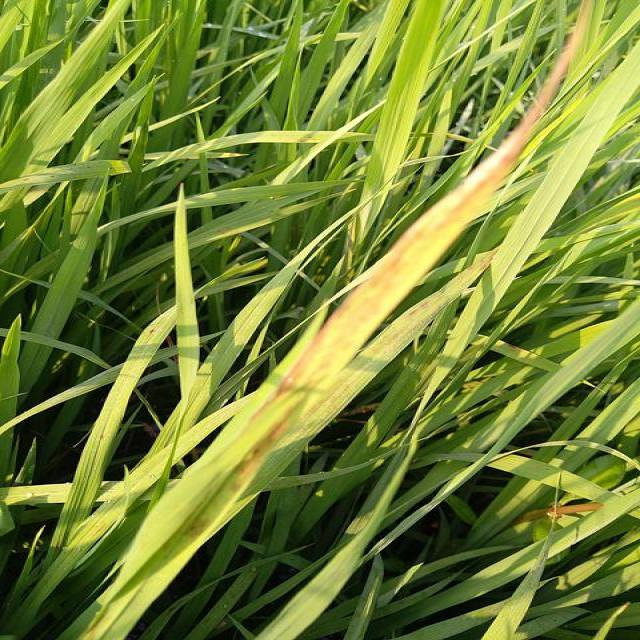Leaf Blight: (195, 0, 596, 534), (320, 248, 497, 403)
